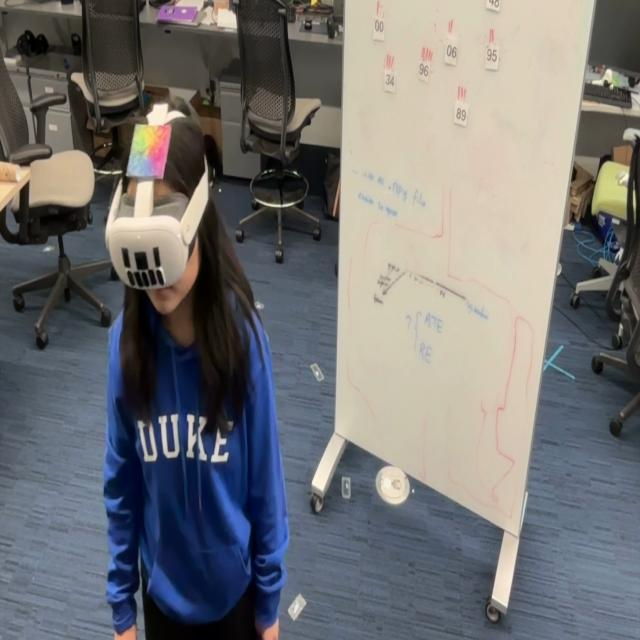Headset: (104, 114, 210, 290)
Marker: (126, 118, 171, 182)
